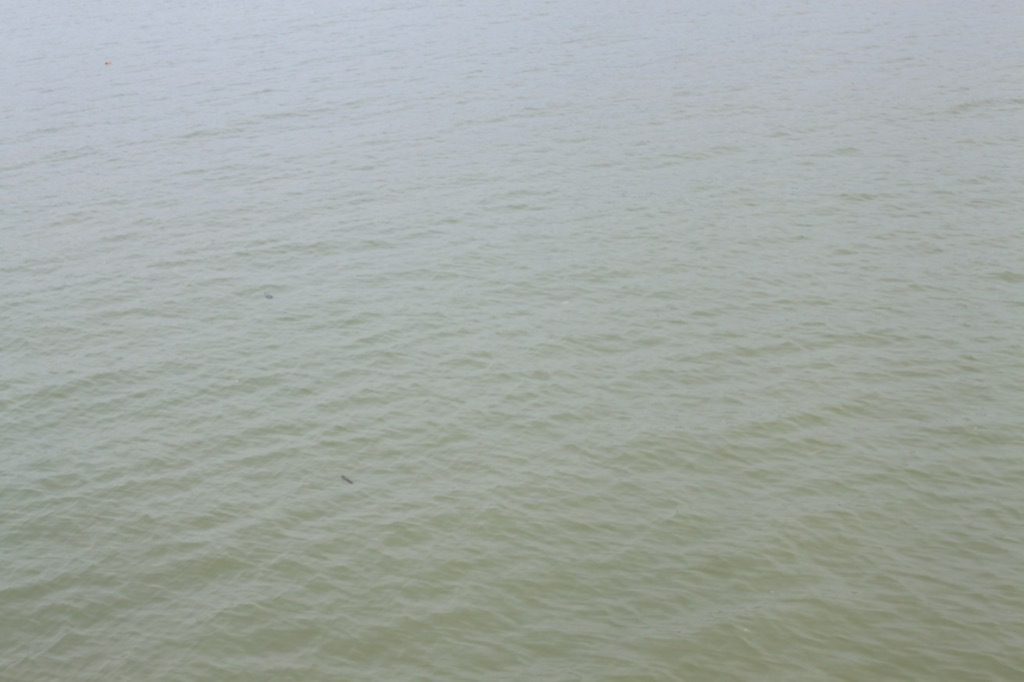organic: (330, 465, 373, 498)
plastic: (257, 287, 280, 306), (97, 56, 119, 72)
